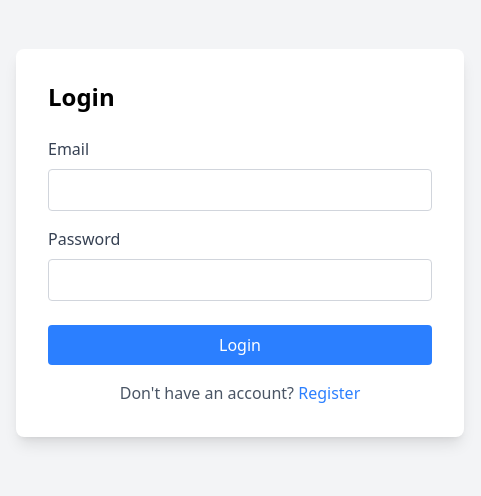
Test: LoginPage › should show error message when login fails
Type "wrong@example.com" into the field labelled "Email" at (240, 190), box 48,169 -> 432,211
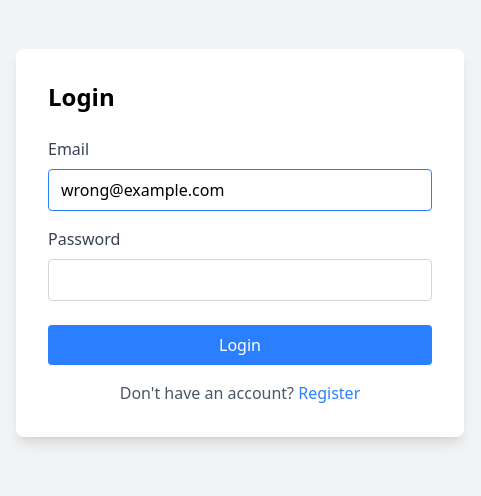
Type "WrongPass123!" into the password field labelled "Password" at (240, 280), box 48,259 -> 432,301
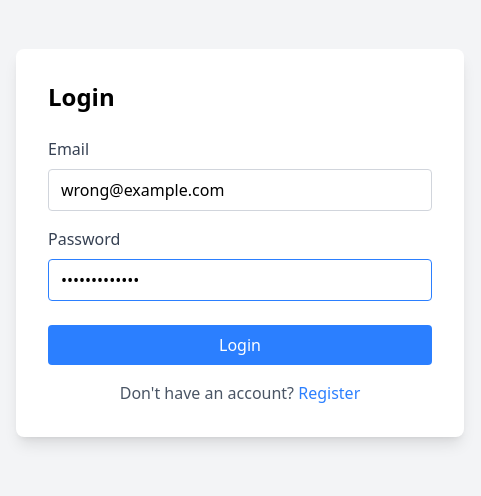
Click the button "Login" at (240, 345), box 48,325 -> 432,365
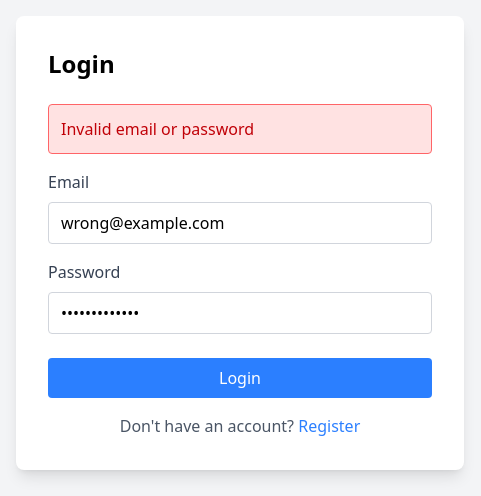
Check: the text "Invalid email or password" is shown, box 48,104 -> 432,154
